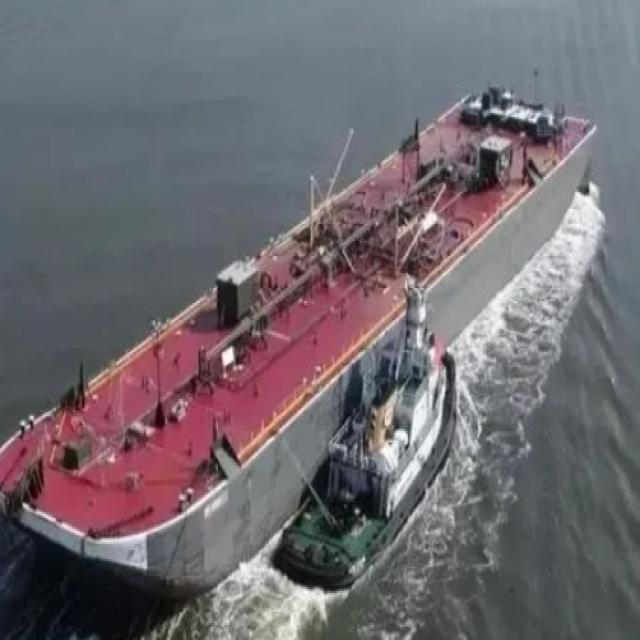navalvessels: (0, 25, 594, 606), (274, 277, 477, 604)
